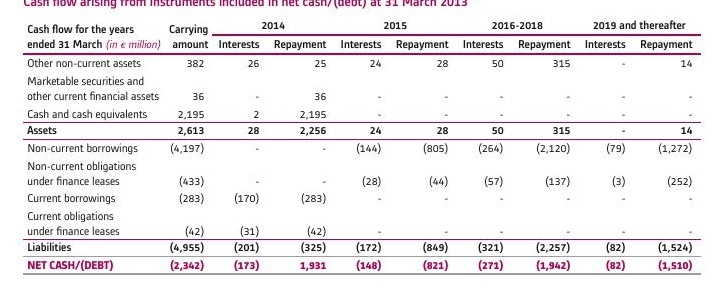table: (0, 0, 724, 298)
